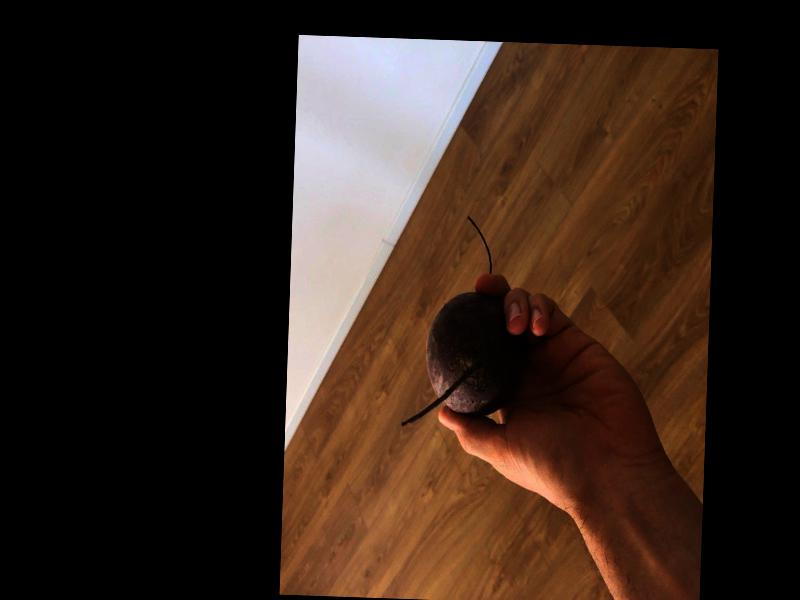Beet: (401, 213, 529, 429)
